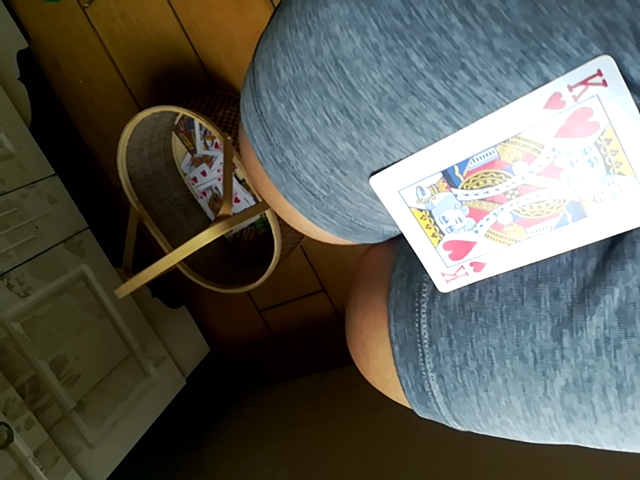hx k: (362, 52, 640, 294)
